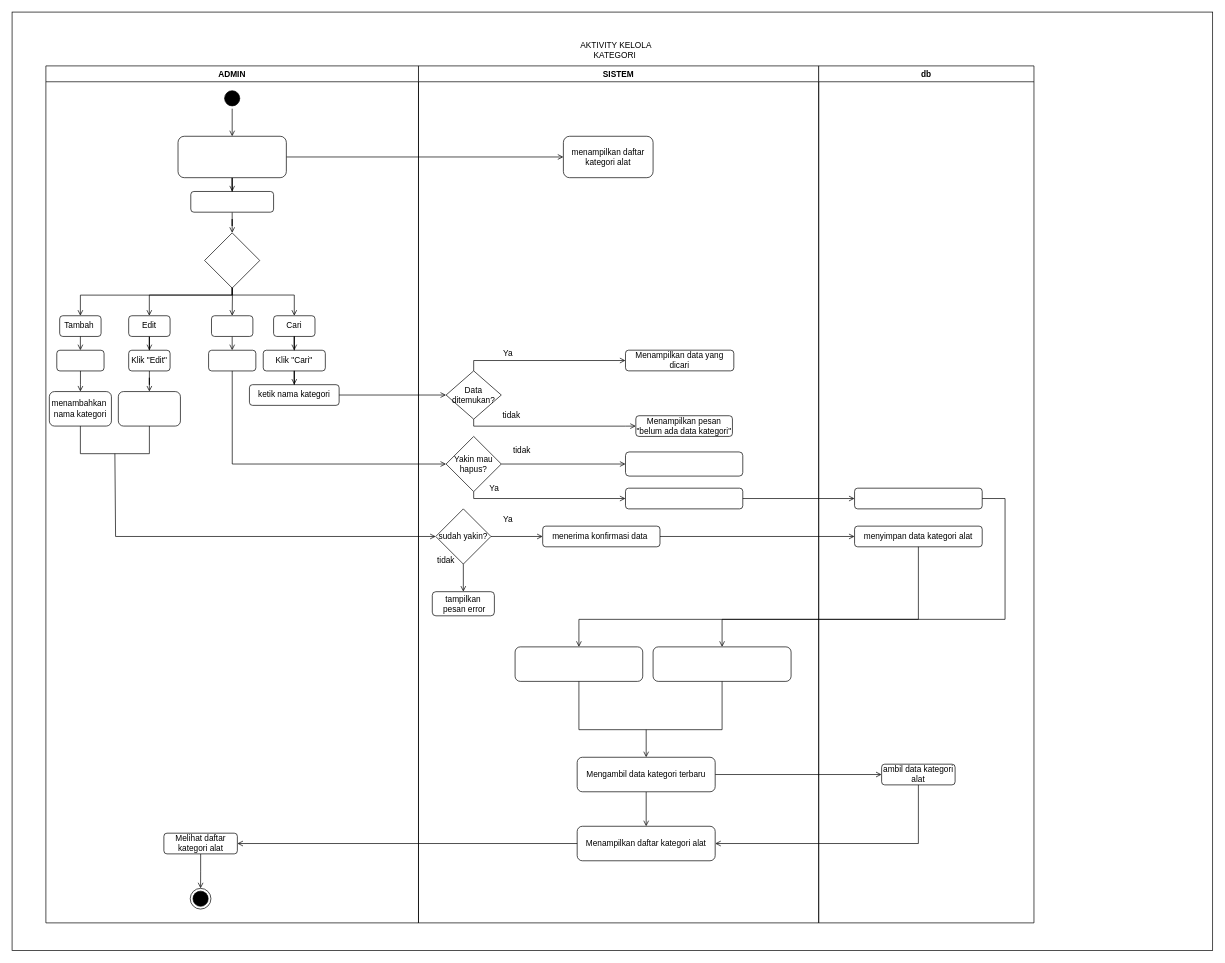
The diagram is 1225 pixels wide and 963 high, and some of its shapes have lost their labels. The centre of each missing label's shape, as x and y in pixels:
Hapus: [232,325]
Kembali ke tampilan Tabel(Aksi Di batalkan): [684,463]
Klik "Hapus": [232,360]
Klik "tambah": [80,360]
Melihat data kategori alat: [232,201]
Memilih menu "kelola kategori": [231,157]
Menampilkan notifikasi "kategori berhasil dihapus": [721,663]
Menampilkan notifikasi "kategori berhasil ditambahkan/diperbarui": [578,663]
menerima konfirmasi penghapusan data: [684,498]
Mengeksekusi penghapusan data di tabel: [918,498]
mengubah nama kategori: [149,408]
Pilih aksi: [232,260]
